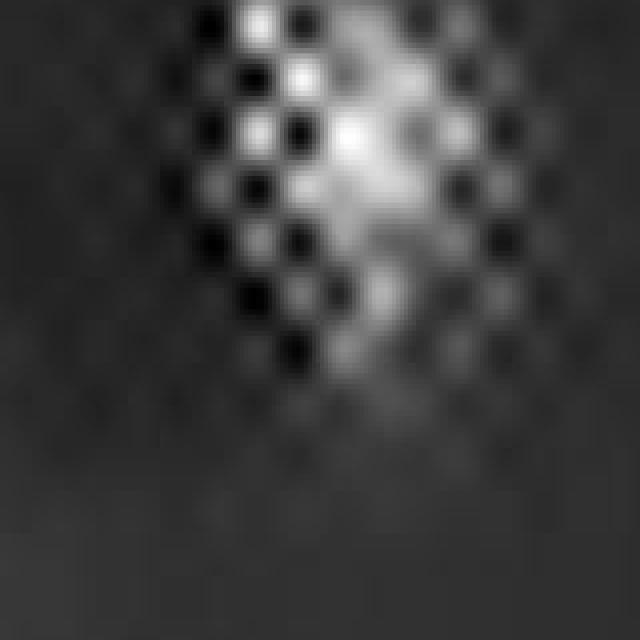person: (181, 1, 493, 428)
